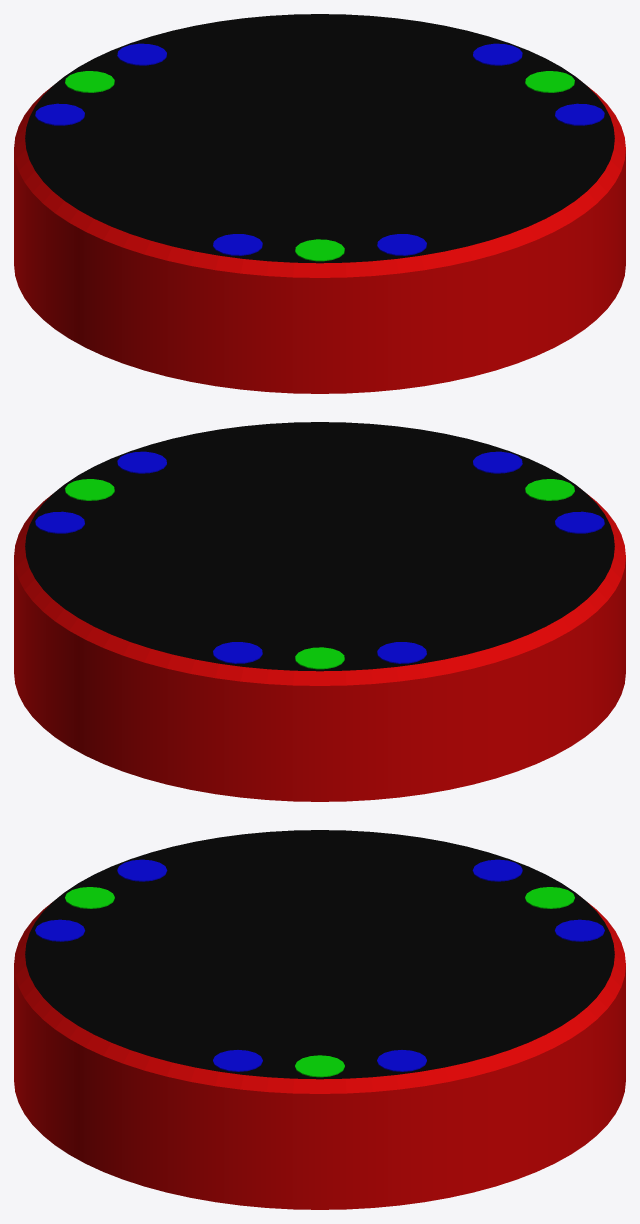
File: SM_Harpy_Base_Candidate.fbx
3 views of the same model, one above another, from view 1: azimuth 30°, elevation 25°; view 2: azimuth 150°, elevation 25°; view 3: azimuth 270°, elevation 25° (orthographic).
Parts seen in each view (by area): view 1: SM_Harpy_Base; view 2: SM_Harpy_Base; view 3: SM_Harpy_Base.
Part boxes in pixels (x1,y1,x2,y2): SM_Harpy_Base: (14,14,625,393); SM_Harpy_Base: (14,422,625,801); SM_Harpy_Base: (14,830,625,1209).
Bounding box in the file's own units: 22 × 22 × 5.04.
